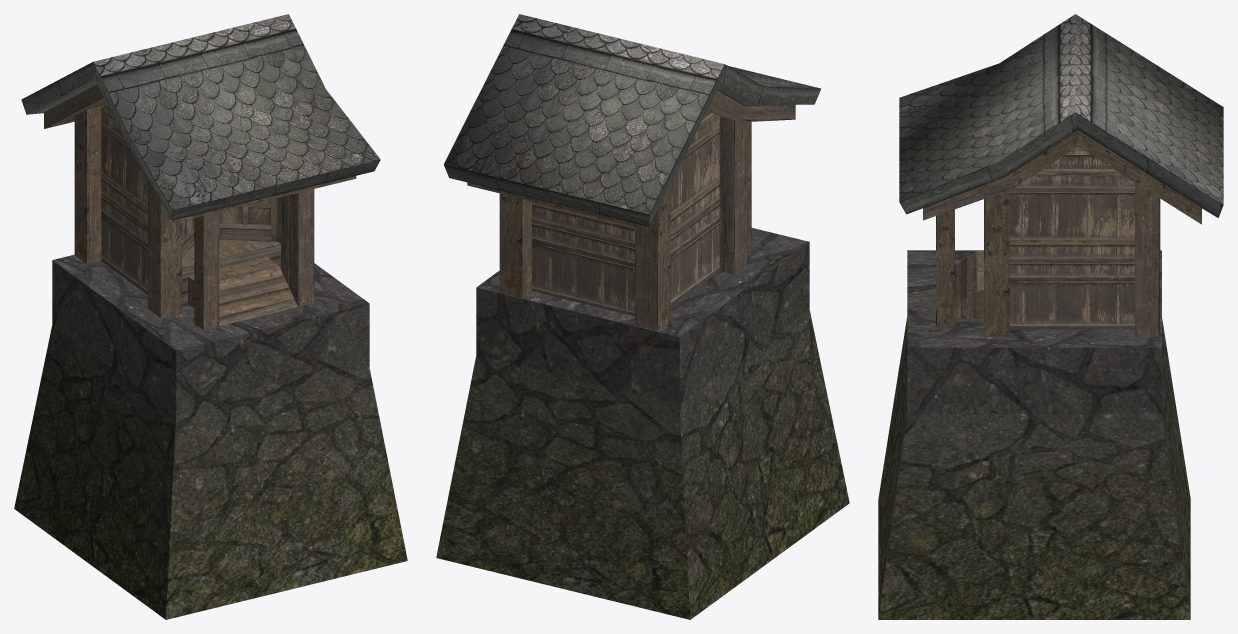
Rendered from small_shrine.fbx.
3 renders of one model, left to right at view 1: azimuth 30°, elevation 25°; view 2: azimuth 150°, elevation 25°; view 3: azimuth 270°, elevation 25°, orthographic. The views are drawn at different scales.
Parts seen in each view (by area): view 1: Pillars; view 2: Pillars; view 3: Pillars.
Boxes of the visible parts, x1,y1,x2,y2 form: Pillars: (14, 14, 407, 619); Pillars: (436, 14, 849, 619); Pillars: (878, 14, 1223, 619).
Bounding box in the file's own units: 87.1 × 166 × 105.
1 material, 1 textured.
